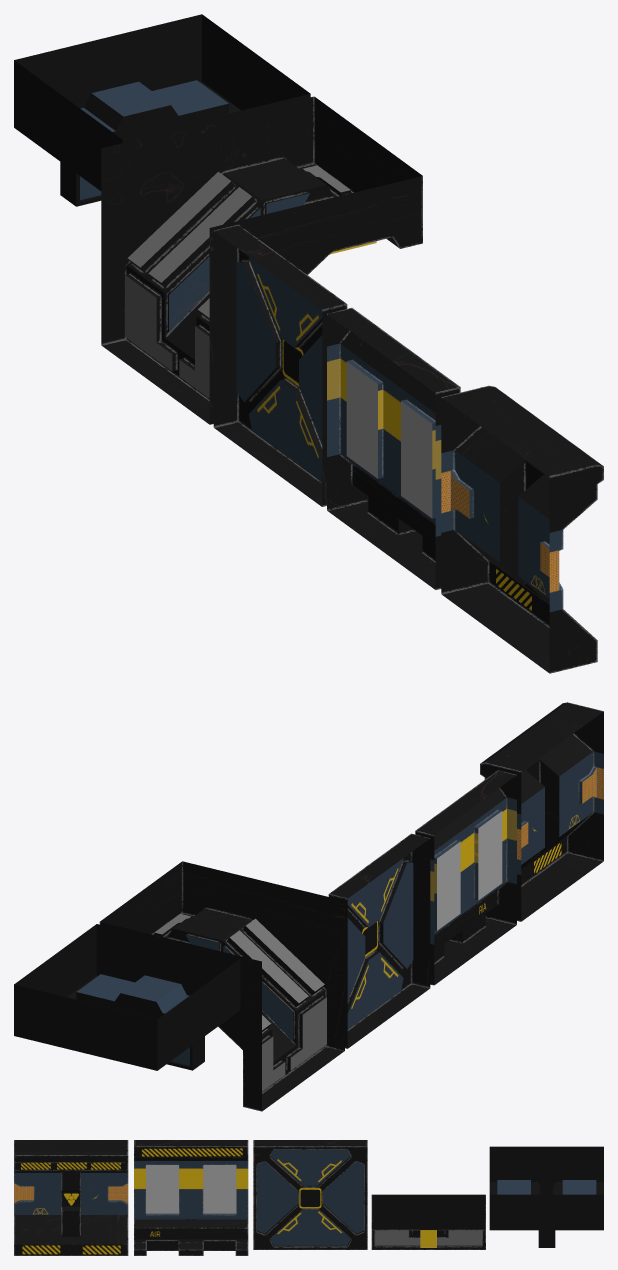
Rendered from sfWallPack.fbx.
3 renders of one model, top to bottom at view 1: azimuth 30°, elevation 25°; view 2: azimuth 150°, elevation 25°; view 3: azimuth 270°, elevation 25°, orthographic. The views are drawn at different scales.
Parts seen in each view (by area): view 1: sfWallPack004, sfWallPack001, sfWallPack005, sfWallPack002, sfWallPack003; view 2: sfWallPack004, sfWallPack005, sfWallPack001, sfWallPack002, sfWallPack003; view 3: sfWallPack001, sfWallPack002, sfWallPack003, sfWallPack005, sfWallPack004.
Part boxes in pixels (x1,y1,x2,y2): sfWallPack004: (101,96,422,424); sfWallPack001: (441,385,603,673); sfWallPack005: (14,14,310,206); sfWallPack002: (327,308,460,589); sfWallPack003: (213,224,347,506); sfWallPack004: (99,861,344,1111); sfWallPack005: (14,924,240,1070); sfWallPack001: (480,702,603,921); sfWallPack002: (415,770,516,985); sfWallPack003: (328,833,430,1048); sfWallPack001: (14,1140,128,1255); sfWallPack002: (134,1140,248,1255); sfWallPack003: (253,1140,367,1249); sfWallPack005: (489,1146,603,1247); sfWallPack004: (371,1194,485,1249).
Bounding box in the file's own units: 227 × 200 × 1033.
